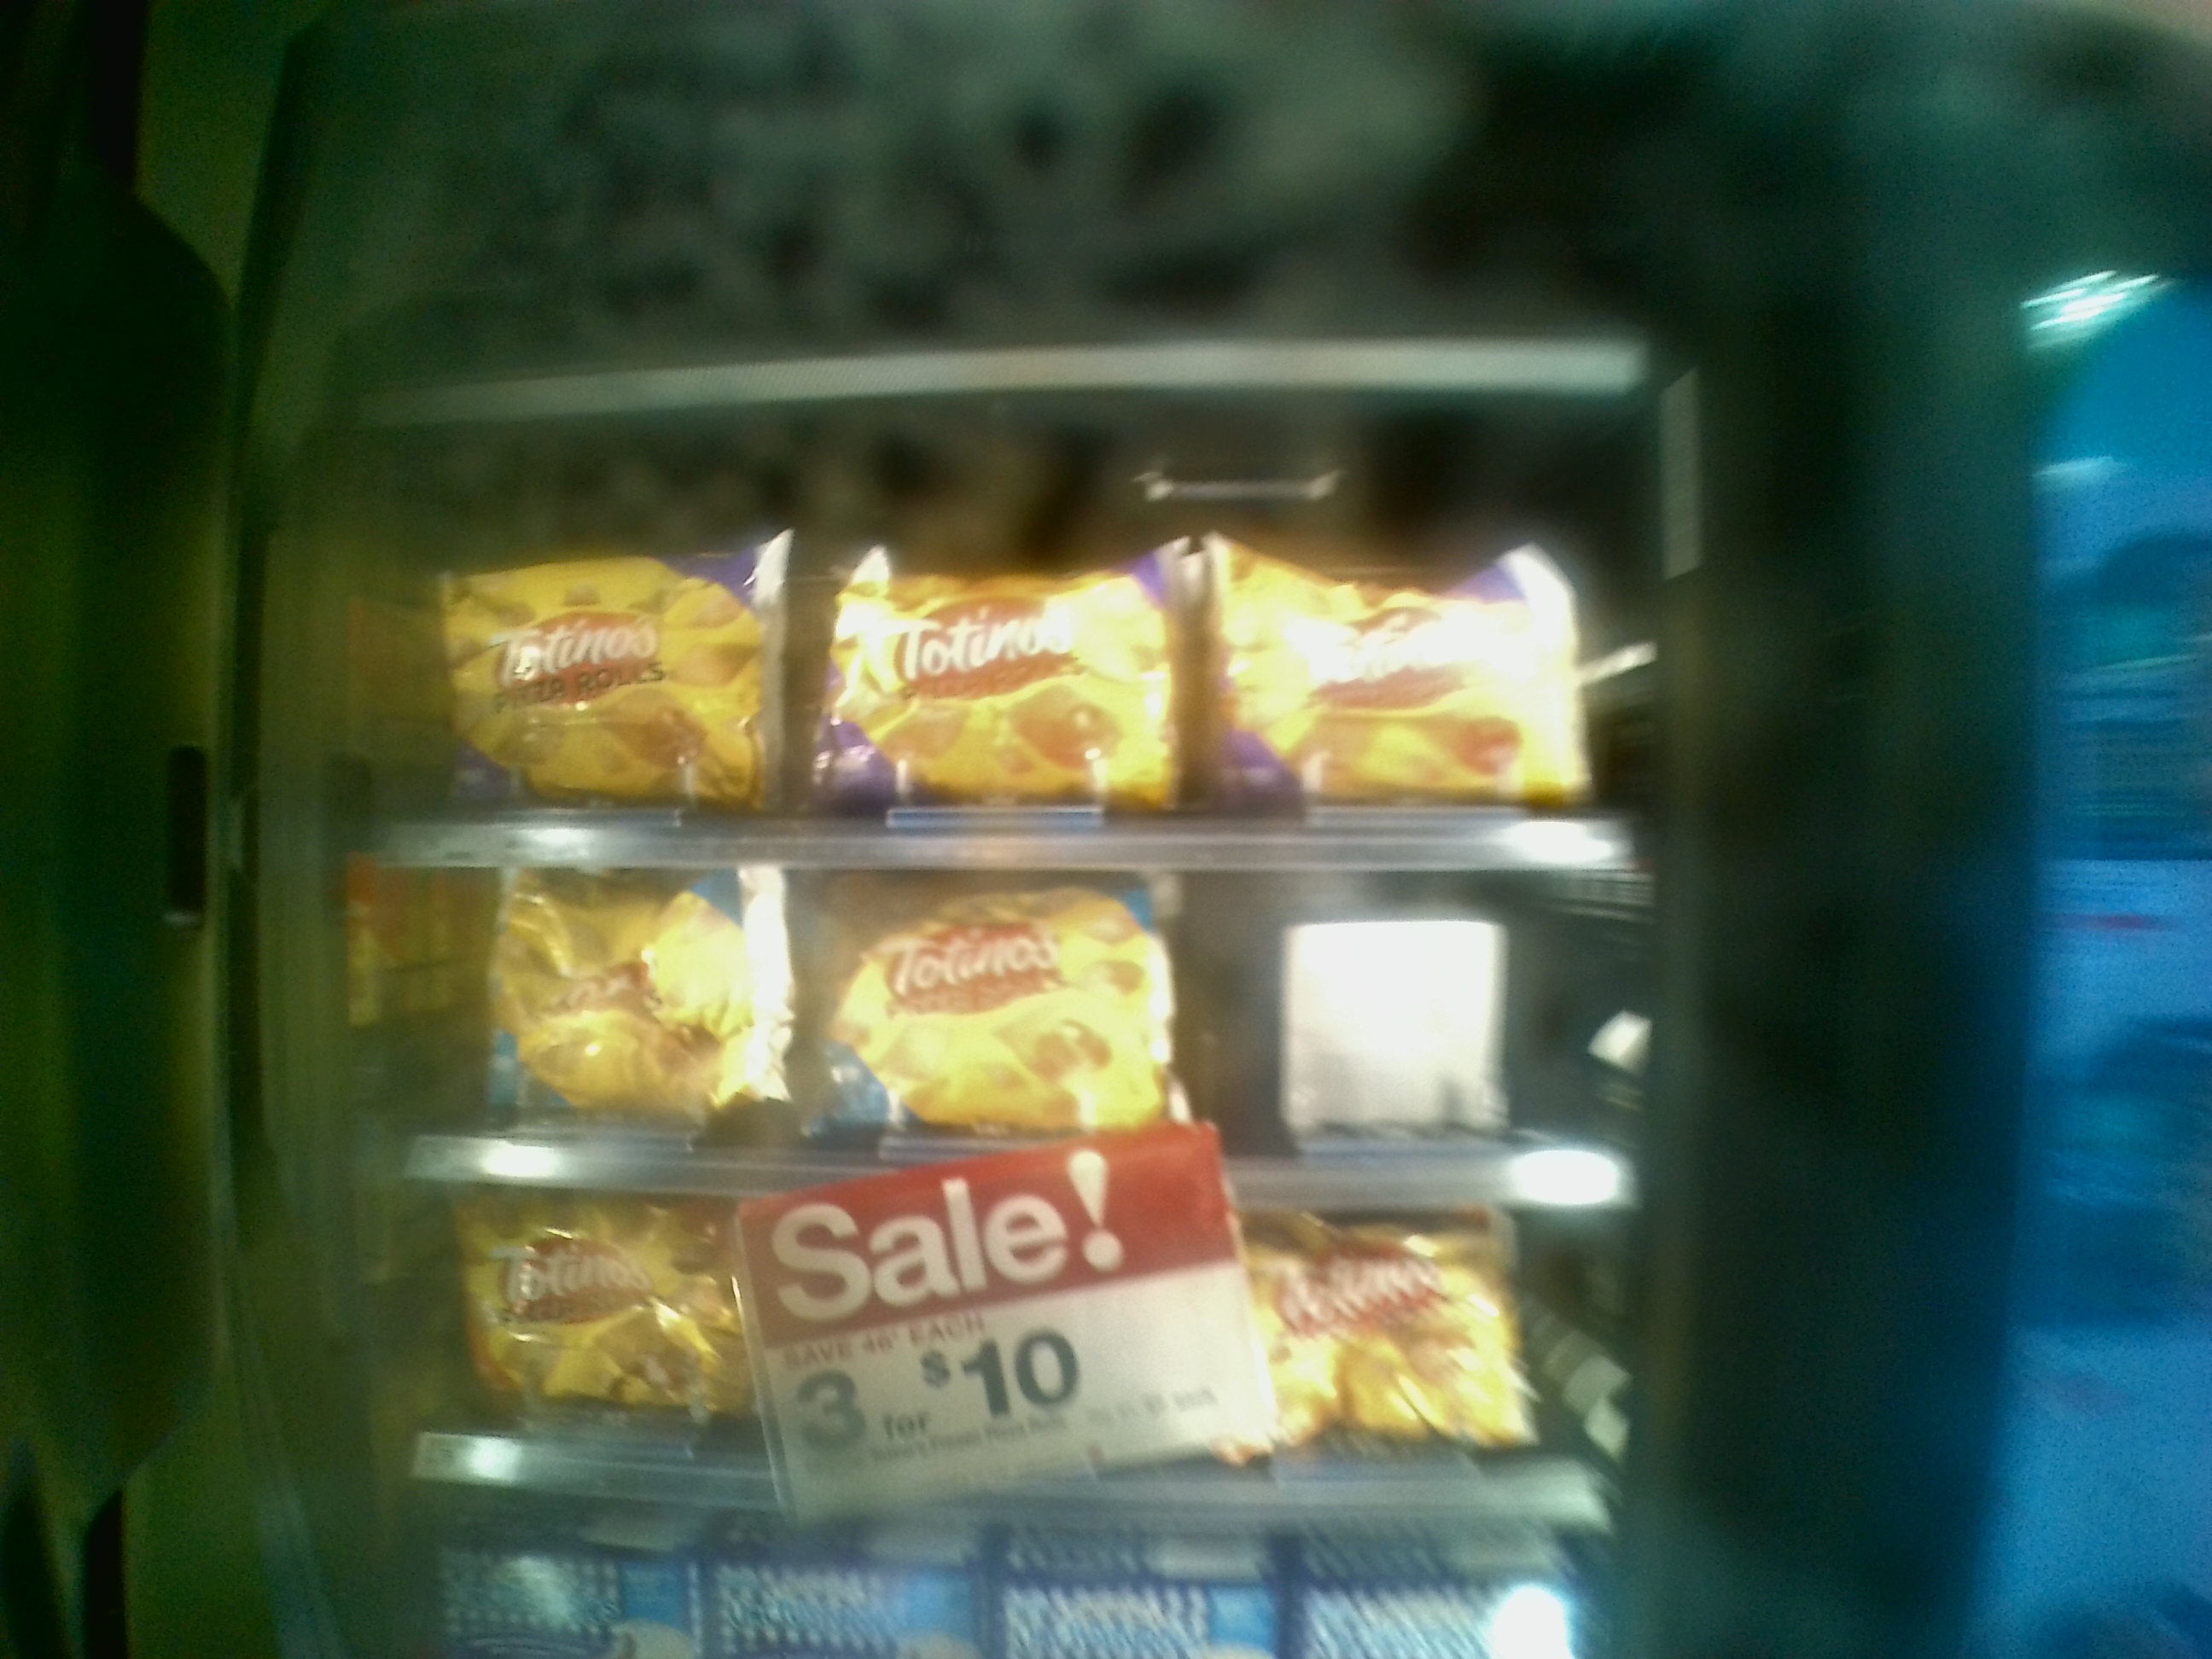shelf: (345, 415, 1651, 870), (338, 864, 1651, 1220), (340, 1182, 1635, 1518)
